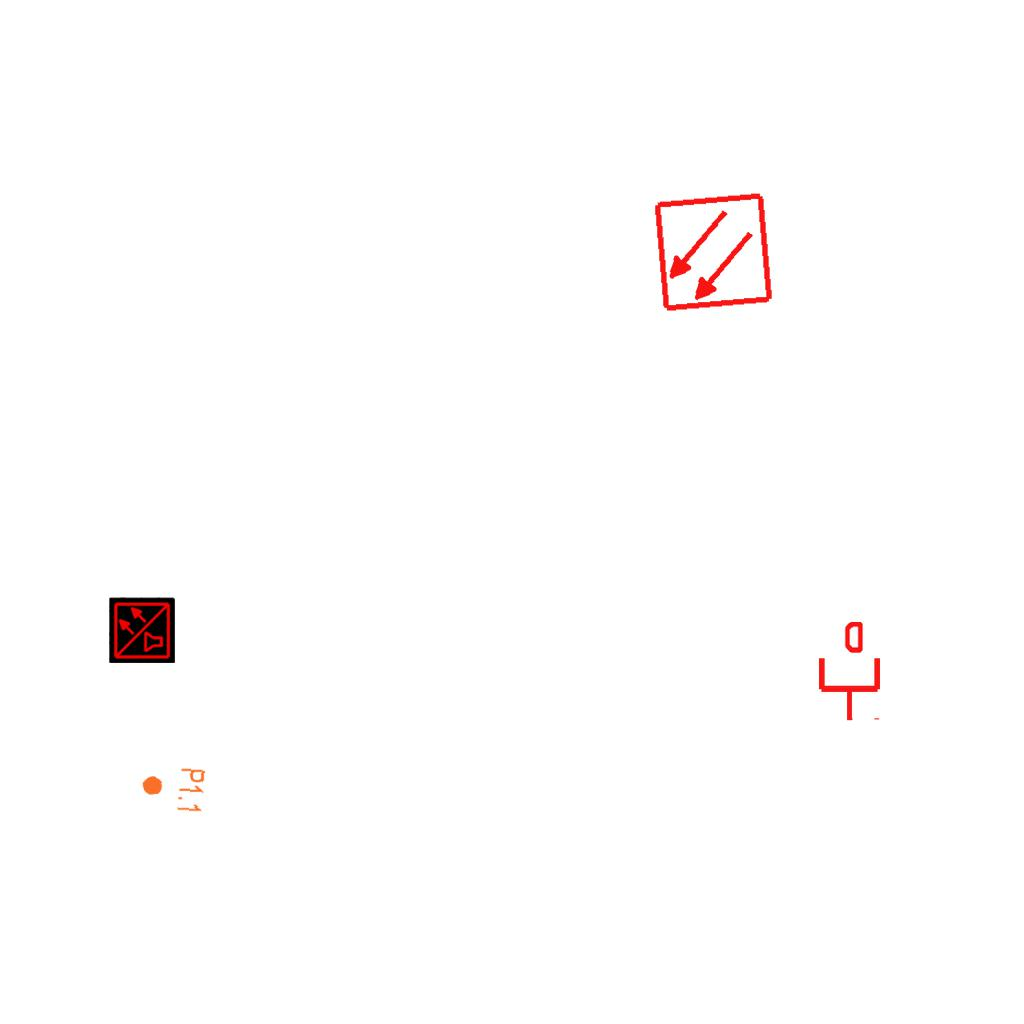Datenanschluss_einfach: (815, 622, 884, 722)
Downlight_LED_Einbauleuchten_Flur: (139, 763, 207, 815)
OKW_Multisensormelder_(Kombination_optischer_Rauch-Kahlenmonoxid_Waerme-Melder): (109, 597, 175, 663)
RMO_Rauchmelder_optischer: (652, 191, 775, 314)
